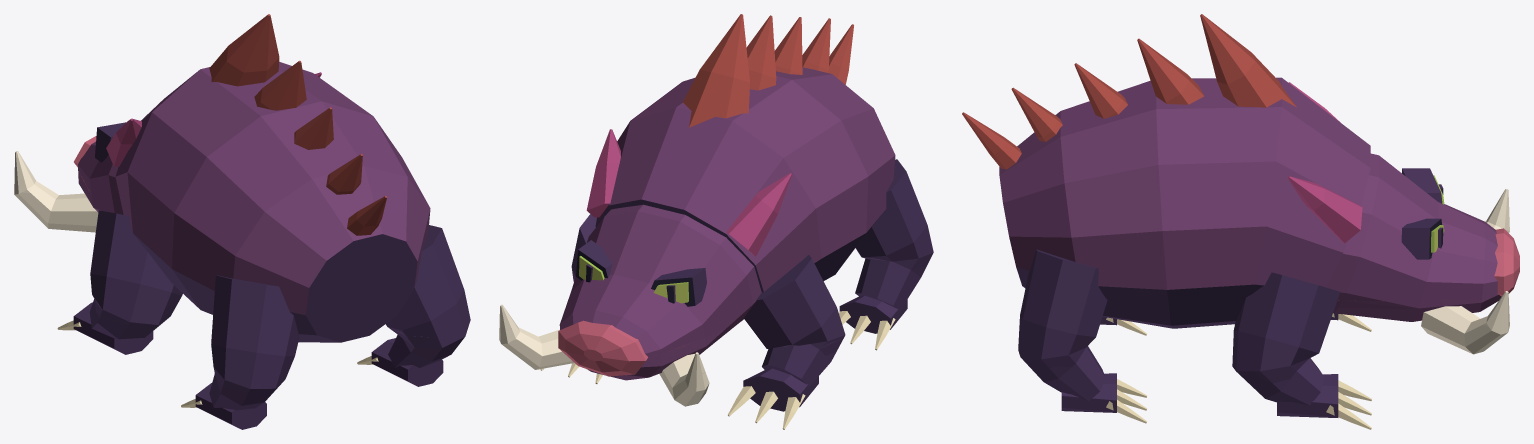
File: CaveCharger_D3-05.fbx
3 views of the same model, side by side, from view 1: azimuth 30°, elevation 25°; view 2: azimuth 150°, elevation 25°; view 3: azimuth 270°, elevation 25° (orthographic). The views are drawn at different scales.
Parts seen in each view (by area): view 1: Body, Leg_BL, Leg_FL, Leg_BR, Head, Shin_BR, Shin_FL, Shin_BL, Jaw; view 2: Body, Head, Leg_FL, Jaw, Leg_BL, Shin_FL, Shin_BL, Leg_FR; view 3: Body, Head, Leg_FR, Leg_BR, Jaw, Shin_BR, Shin_FR.
Boxes of the visible parts, bbox=[...] form: Body: bbox=[115, 14, 430, 342]; Leg_BL: bbox=[211, 275, 299, 392]; Leg_FL: bbox=[90, 210, 182, 325]; Leg_BR: bbox=[386, 225, 470, 348]; Head: bbox=[14, 72, 321, 214]; Shin_BR: bbox=[357, 319, 470, 386]; Shin_FL: bbox=[57, 296, 181, 354]; Shin_BL: bbox=[181, 366, 290, 429]; Jaw: bbox=[14, 162, 100, 232]; Body: bbox=[595, 14, 895, 292]; Head: bbox=[499, 129, 791, 384]; Leg_FL: bbox=[744, 255, 845, 360]; Jaw: bbox=[499, 311, 747, 406]; Leg_BL: bbox=[855, 159, 933, 273]; Shin_FL: bbox=[728, 339, 840, 429]; Shin_BL: bbox=[839, 252, 932, 350]; Leg_FR: bbox=[571, 214, 596, 281]; Body: bbox=[962, 14, 1370, 328]; Head: bbox=[1287, 82, 1519, 328]; Leg_FR: bbox=[1232, 272, 1339, 383]; Leg_BR: bbox=[1018, 249, 1107, 368]; Jaw: bbox=[1333, 213, 1519, 354]; Shin_BR: bbox=[1025, 346, 1147, 423]; Shin_FR: bbox=[1232, 350, 1371, 429].
Size of the model in its own units: 0.9185 by 1.1 by 1.58.
Materials: 1 (1 with a texture image).
